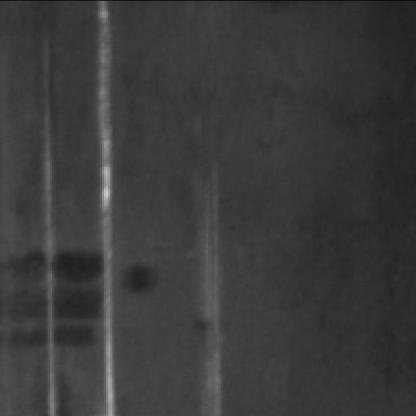inclusion: (4, 243, 114, 360)
scratches: (85, 2, 125, 412), (31, 48, 69, 414), (181, 173, 229, 405)
